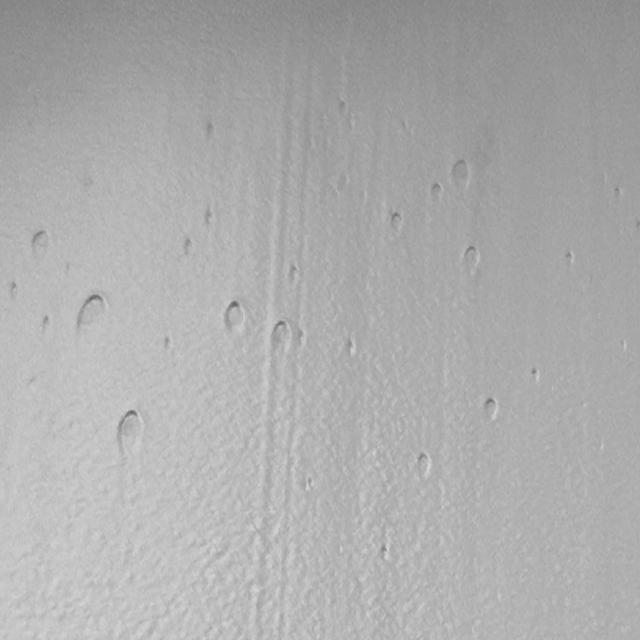pin holes: (72, 291, 115, 336), (114, 405, 146, 458), (221, 299, 247, 337), (29, 228, 55, 258), (451, 158, 474, 191), (460, 244, 482, 278), (270, 320, 292, 348), (388, 209, 409, 236), (414, 452, 434, 480), (480, 395, 500, 422), (425, 181, 444, 206), (562, 250, 580, 273), (609, 183, 627, 206), (285, 262, 302, 286), (202, 207, 218, 232), (528, 365, 546, 387), (344, 337, 361, 360), (378, 540, 394, 564), (40, 313, 55, 336), (182, 237, 198, 258), (9, 281, 23, 303), (335, 98, 350, 116), (162, 334, 175, 353), (303, 476, 317, 493), (205, 121, 215, 140), (298, 330, 306, 349), (620, 336, 627, 354)
